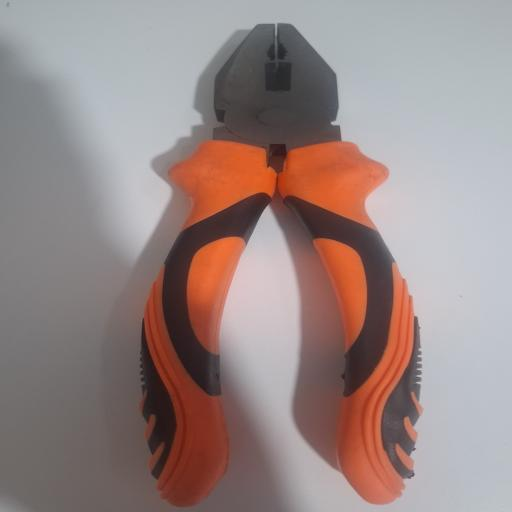alicate: (136, 22, 427, 506)
